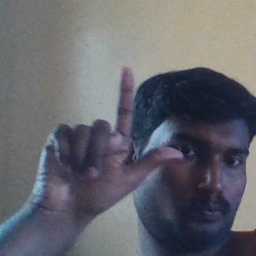L: (32, 66, 184, 217)
